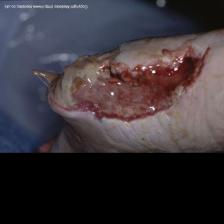Wound: (28, 47, 215, 127)
